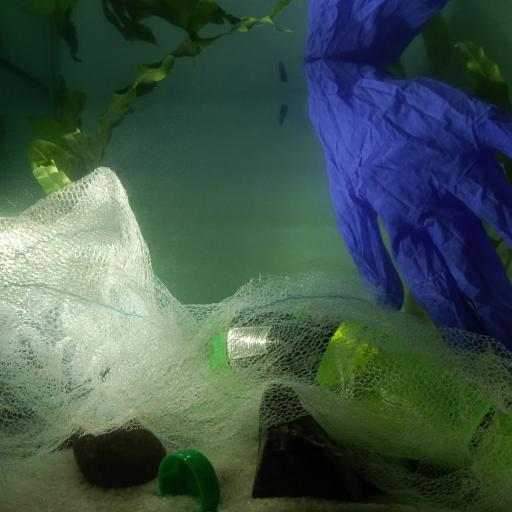bottle_cap: (160, 446, 217, 510)
glove: (304, 56, 512, 358)
net: (0, 166, 512, 505)
plastic_bottle: (165, 307, 512, 473)
